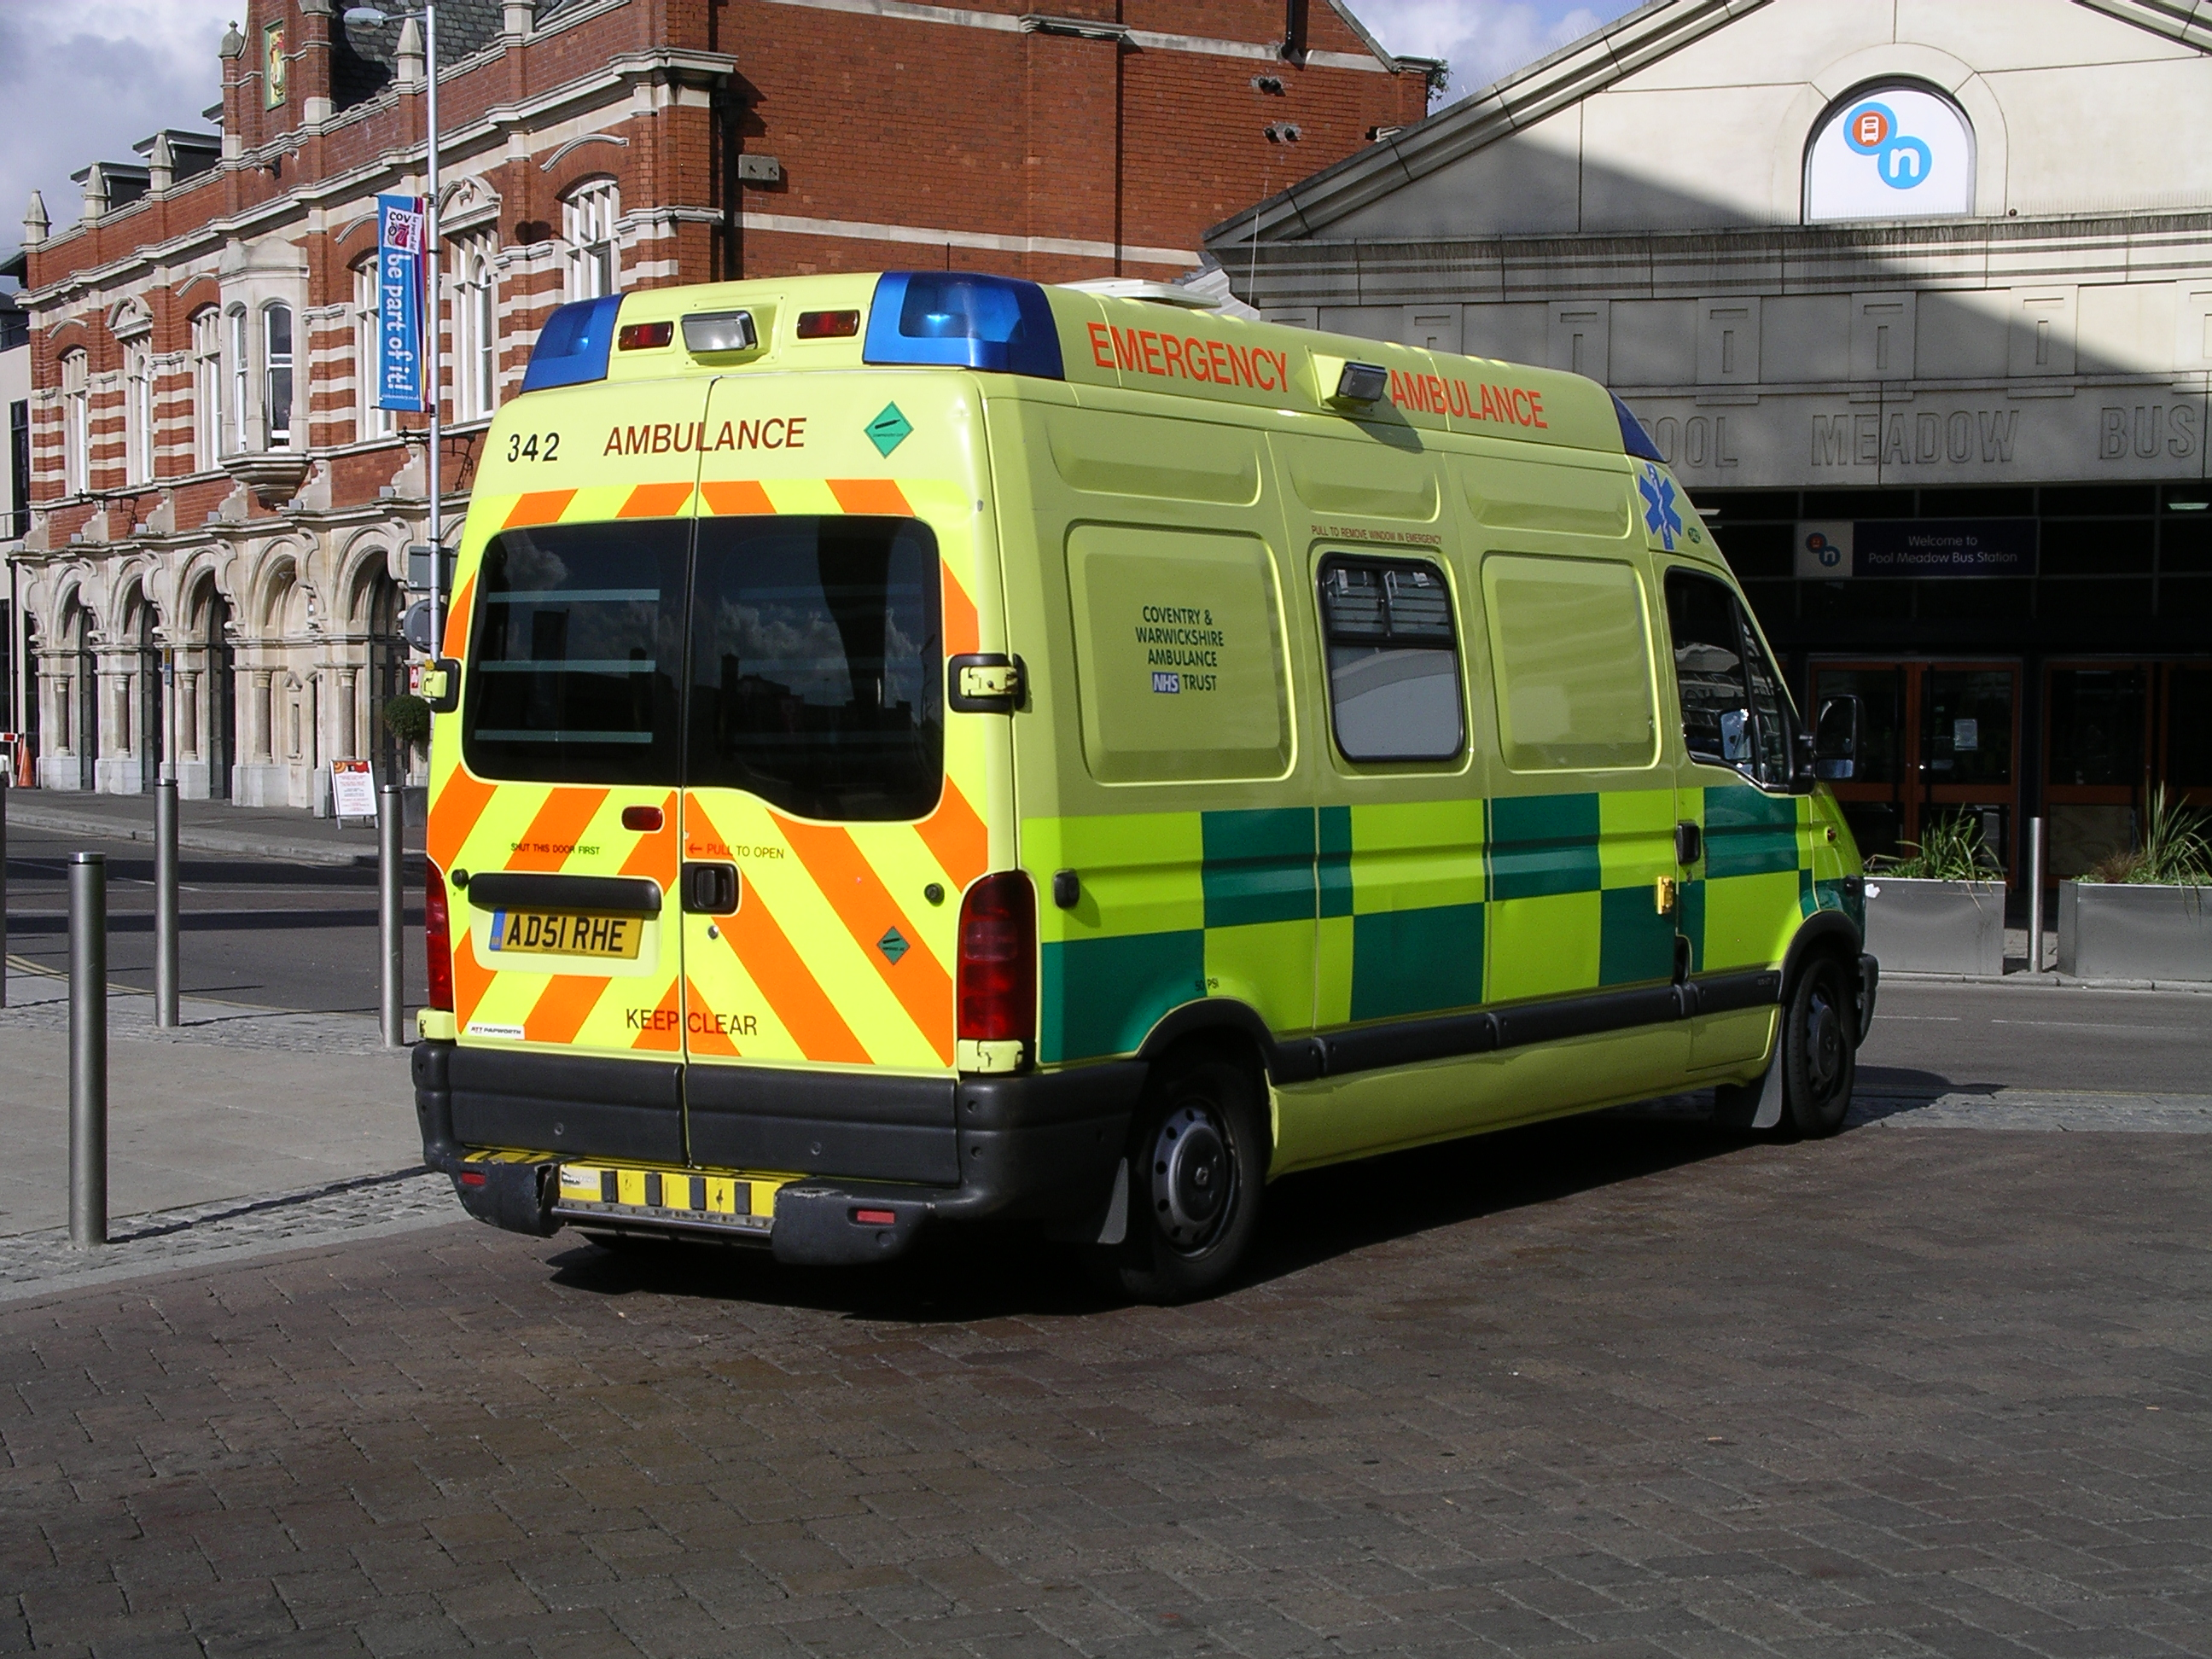special: (420, 282, 1878, 1326)
